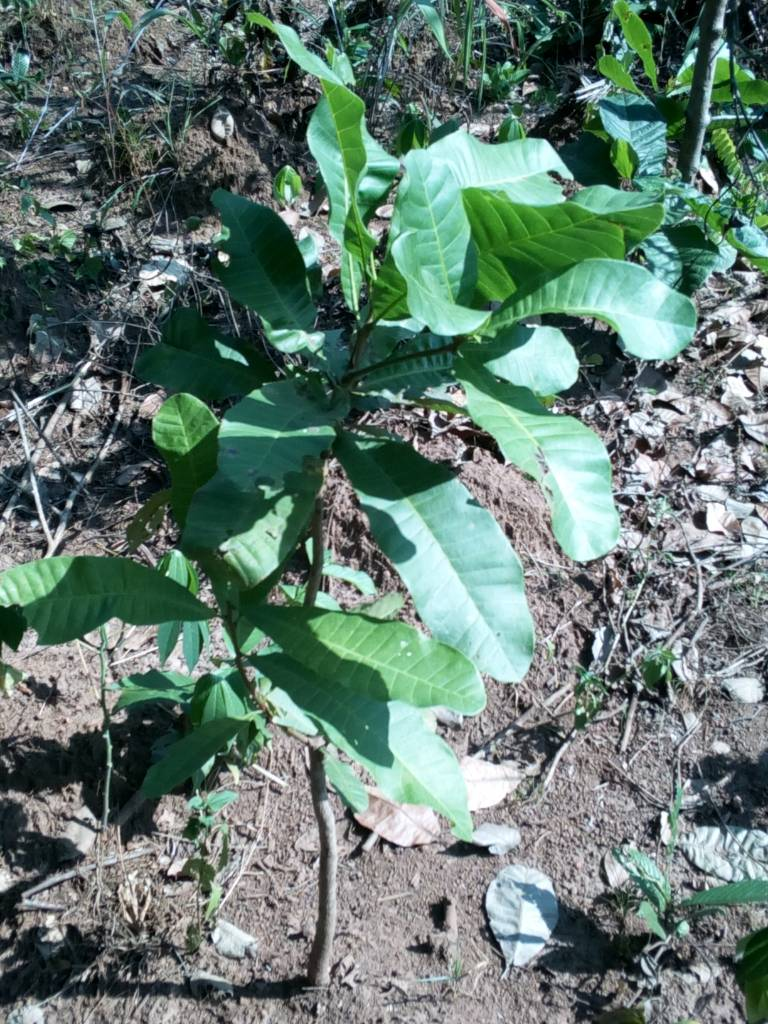Anoplocnemis curvipes: (211, 185, 308, 327), (222, 386, 336, 489)
